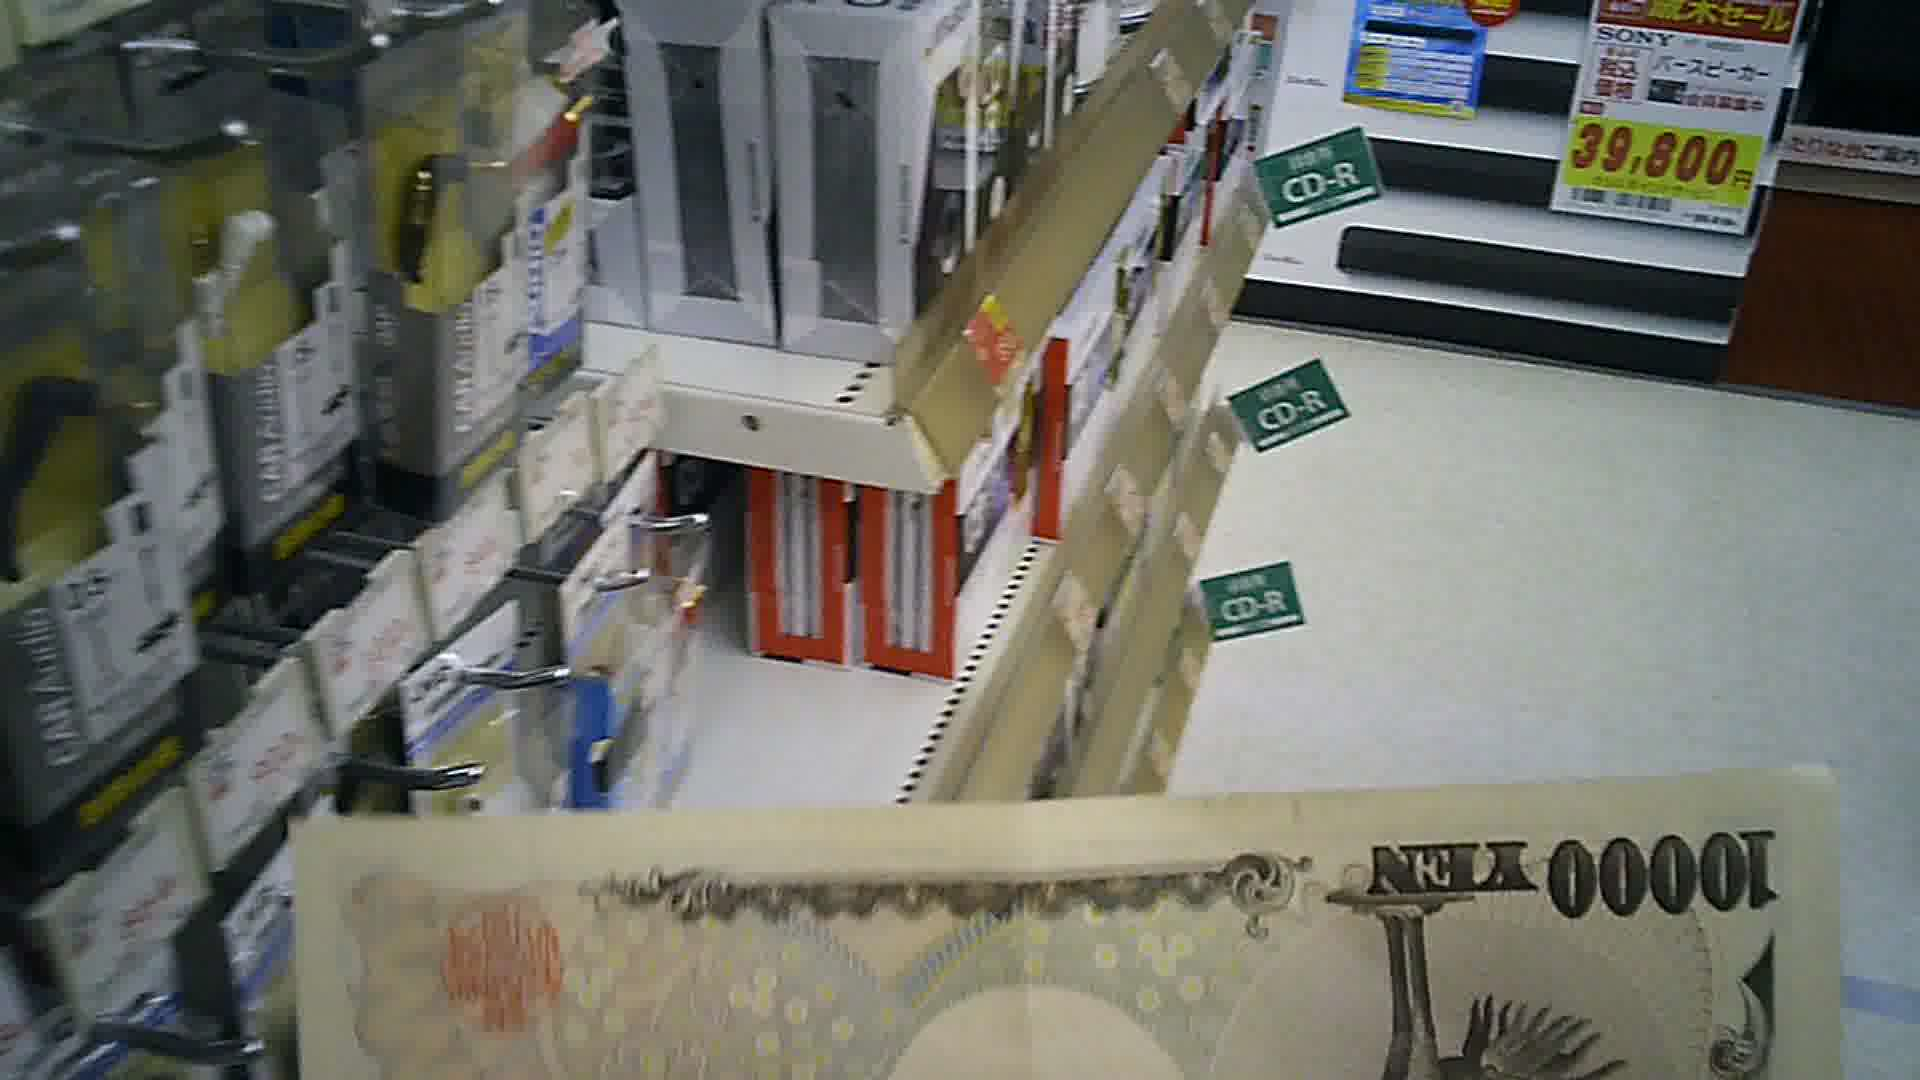10,000 Yen: (278, 760, 1804, 1079)
